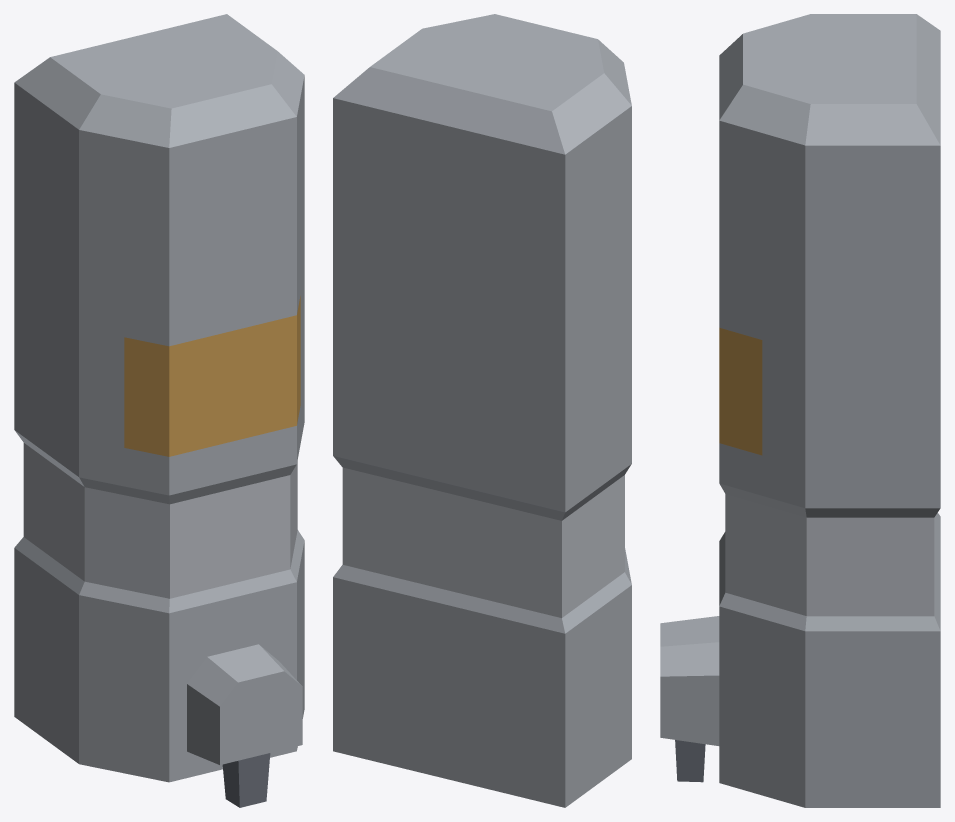
The model's file is SM_Prop_Soap_Dispenser_01.obj.
The picture shows the model from 3 angles, left to right: view 1: azimuth 30°, elevation 25°; view 2: azimuth 150°, elevation 25°; view 3: azimuth 270°, elevation 25°; orthographic projection. The views are drawn at different scales.
Parts seen in each view (by area): view 1: SM_Prop_Soap_Dispenser_01_0; view 2: SM_Prop_Soap_Dispenser_01_0; view 3: SM_Prop_Soap_Dispenser_01_0.
Part boxes in pixels (left/top/right/bottom): SM_Prop_Soap_Dispenser_01_0: left=14, top=14, right=304, bottom=807; SM_Prop_Soap_Dispenser_01_0: left=333, top=14, right=631, bottom=807; SM_Prop_Soap_Dispenser_01_0: left=660, top=14, right=940, bottom=807.
Size of the model in its own units: 0.1511 by 0.4387 by 0.1556.
1 material, 1 textured.
